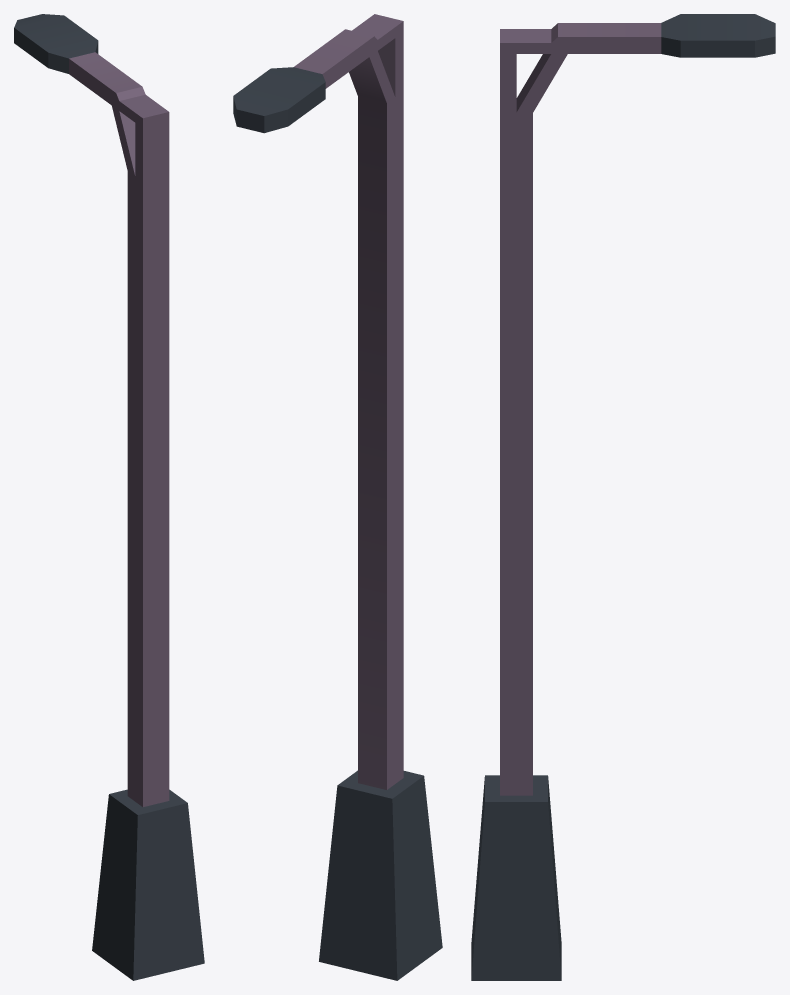
The model's file is Lamp_02.fbx.
3 renders of one model, left to right at view 1: azimuth 30°, elevation 25°; view 2: azimuth 150°, elevation 25°; view 3: azimuth 270°, elevation 25°, orthographic. The views are drawn at different scales.
Parts seen in each view (by area): view 1: Lamp_02; view 2: Lamp_02; view 3: Lamp_02.
Boxes of the visible parts, x1,y1,x2,y2 form: Lamp_02: (14, 14, 204, 980); Lamp_02: (233, 14, 442, 980); Lamp_02: (471, 14, 775, 980).
Bounding box in the file's own units: 28 × 320 × 94.41.
